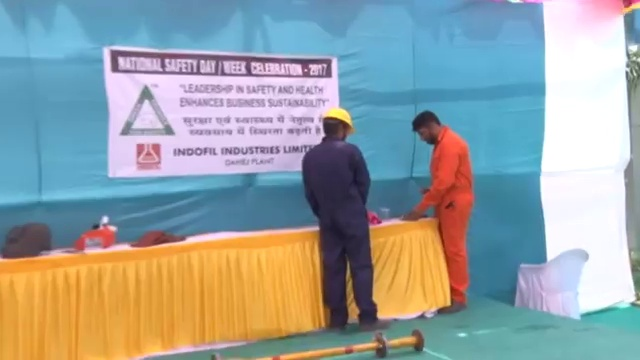helmet: (322, 106, 356, 135)
helmet_off: (412, 109, 444, 144)
helmet_on: (320, 103, 357, 146)
person: (301, 102, 393, 331), (408, 109, 473, 313)
